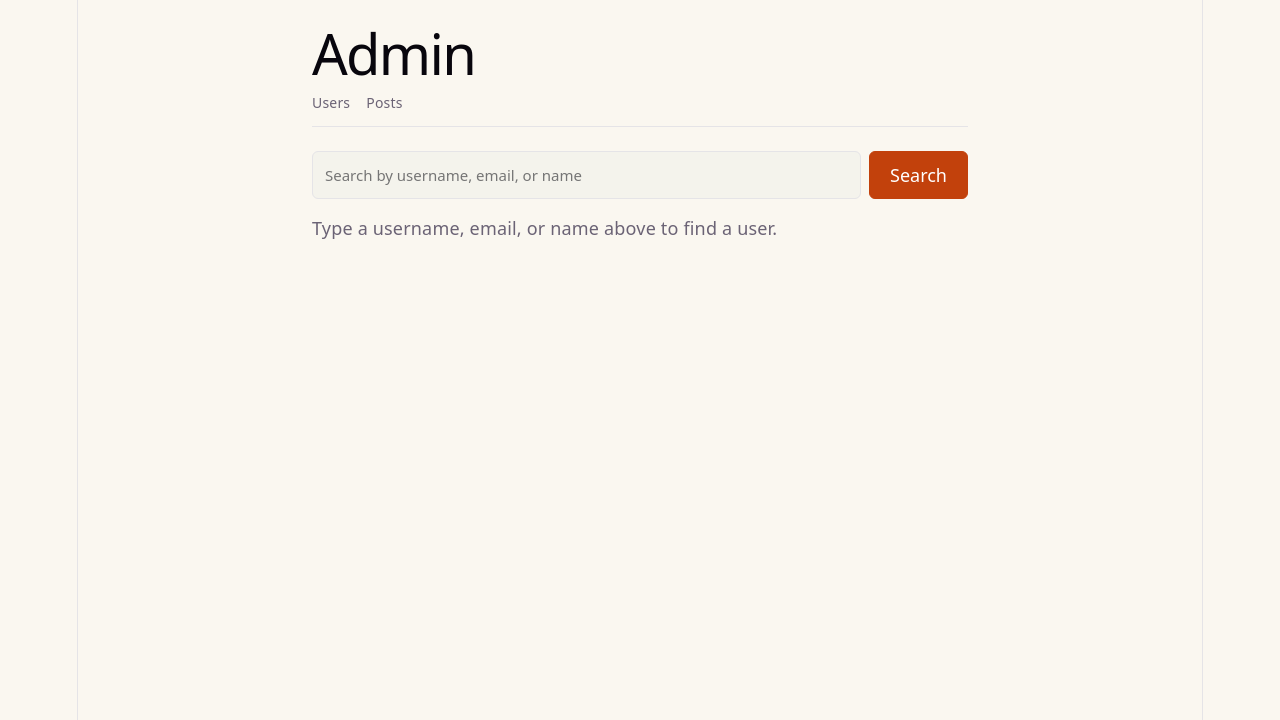
Test: AdminUsers › shows empty-state copy when nothing matches
Type "ghost" into the field named "Search users".
click(586, 175); type("ghost")  # box [312,151,861,199]
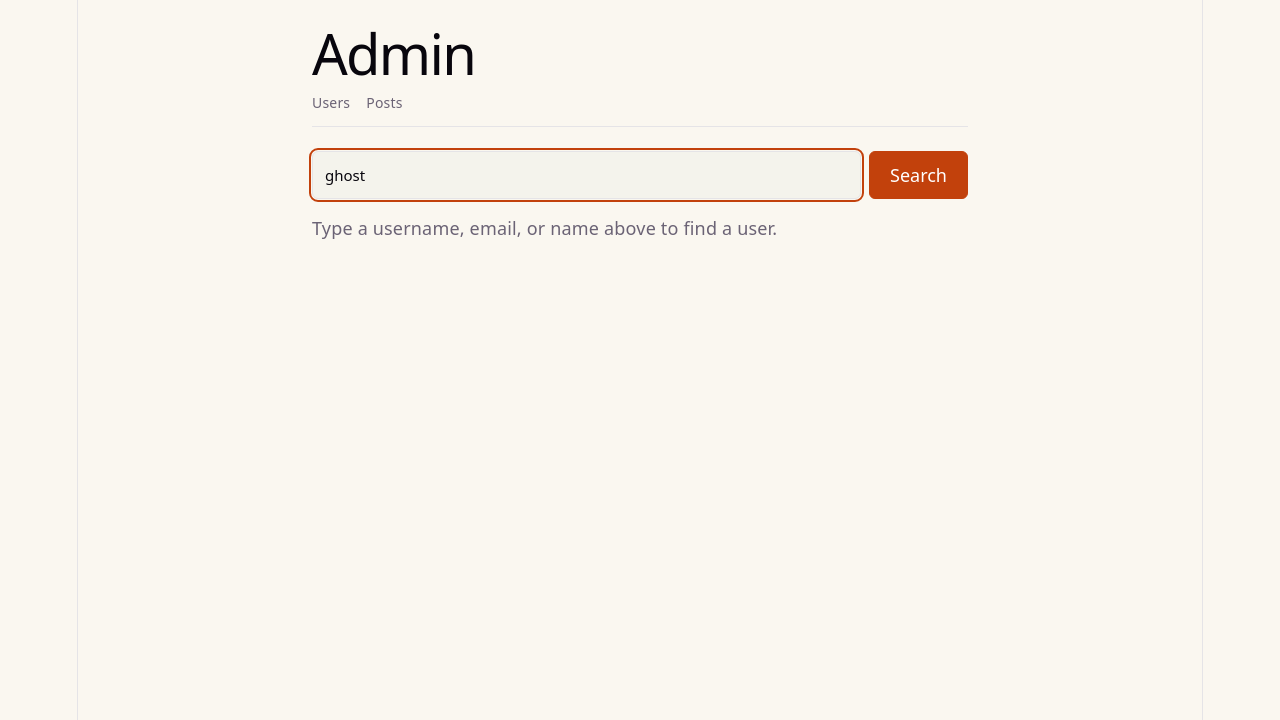
Click the button "Search".
click(918, 175)  # box [869,151,968,199]
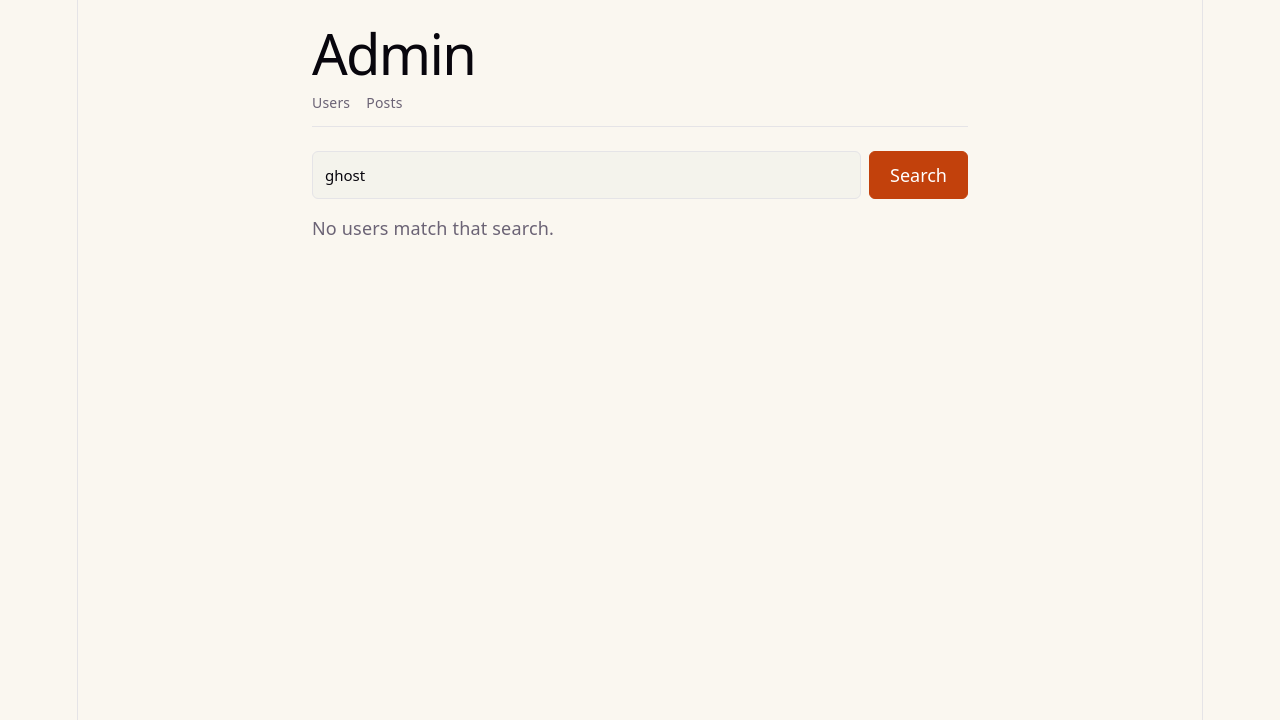
expect the text "No users match that search." is shown: met, box [312,216,554,240]
